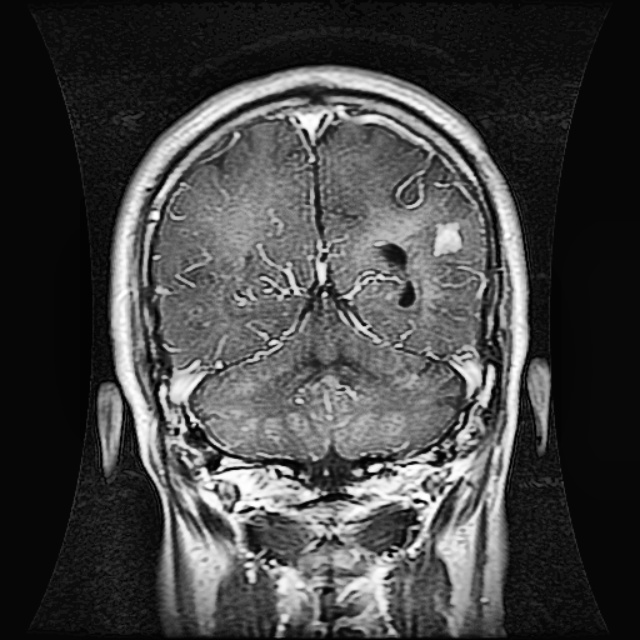Meningioma: (383, 244, 417, 308)
